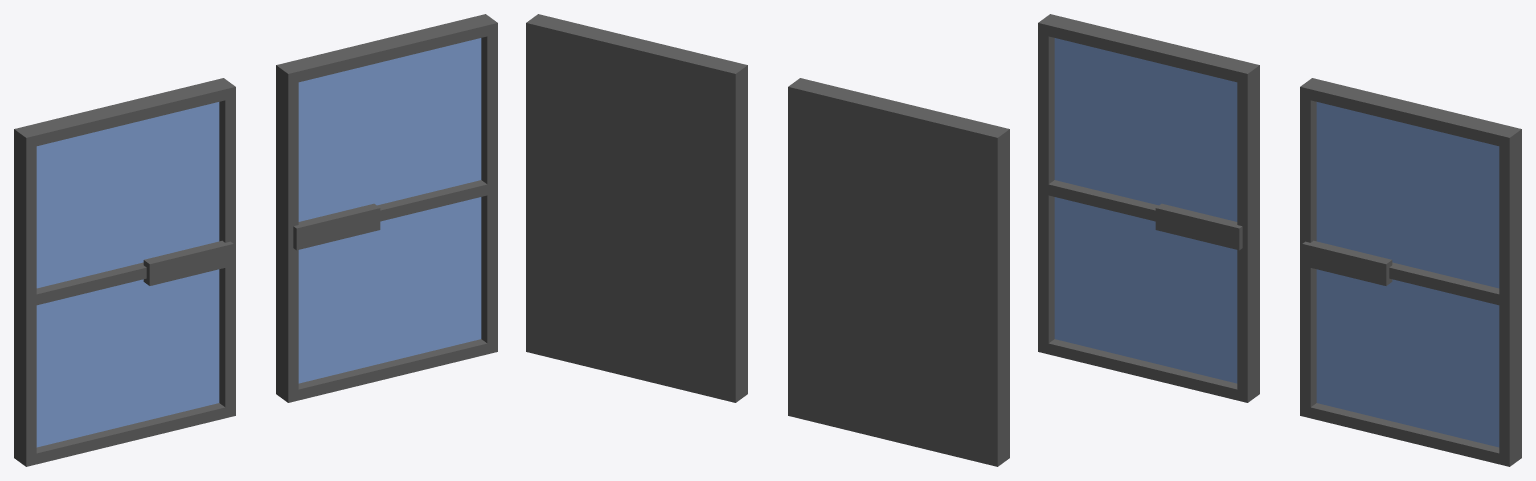
Rendered from Office Interior doors.fbx.
3 views of the same model, side by side, from view 1: azimuth 30°, elevation 25°; view 2: azimuth 150°, elevation 25°; view 3: azimuth 330°, elevation 25° (orthographic).
Parts seen in each view (by area): view 1: door_l, door_r; view 2: door_l, door_r; view 3: door_l, door_r.
Boxes of the visible parts, x1,y1,x2,y2 form: door_l: (14, 78, 235, 466); door_r: (276, 14, 497, 402); door_l: (788, 78, 1009, 466); door_r: (526, 14, 747, 402); door_l: (1038, 14, 1259, 402); door_r: (1300, 78, 1521, 466).
Bounding box in the file's own units: 450 × 300 × 25.
